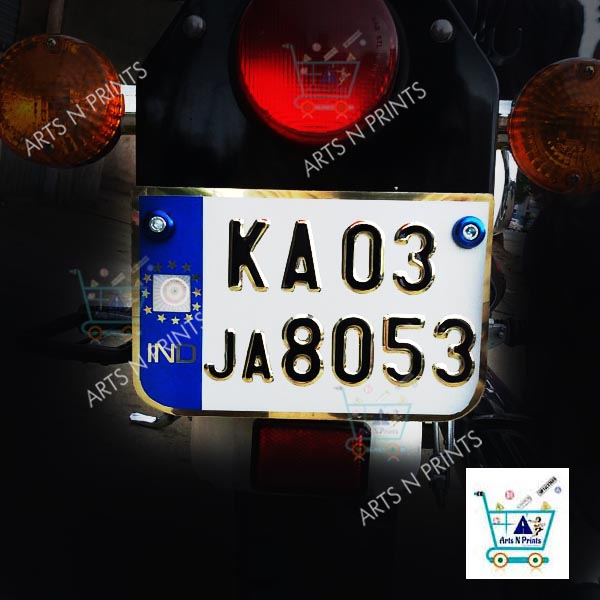doublelinenumberplate: (136, 192, 479, 414)
